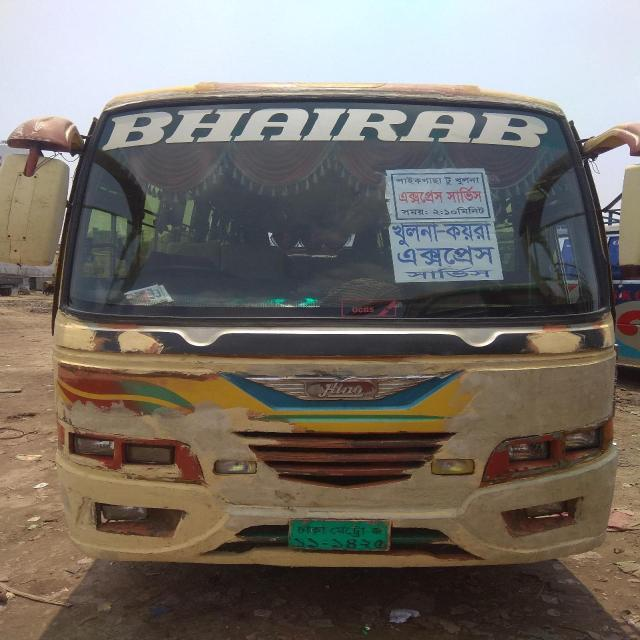numberplate: (286, 517, 392, 552)
